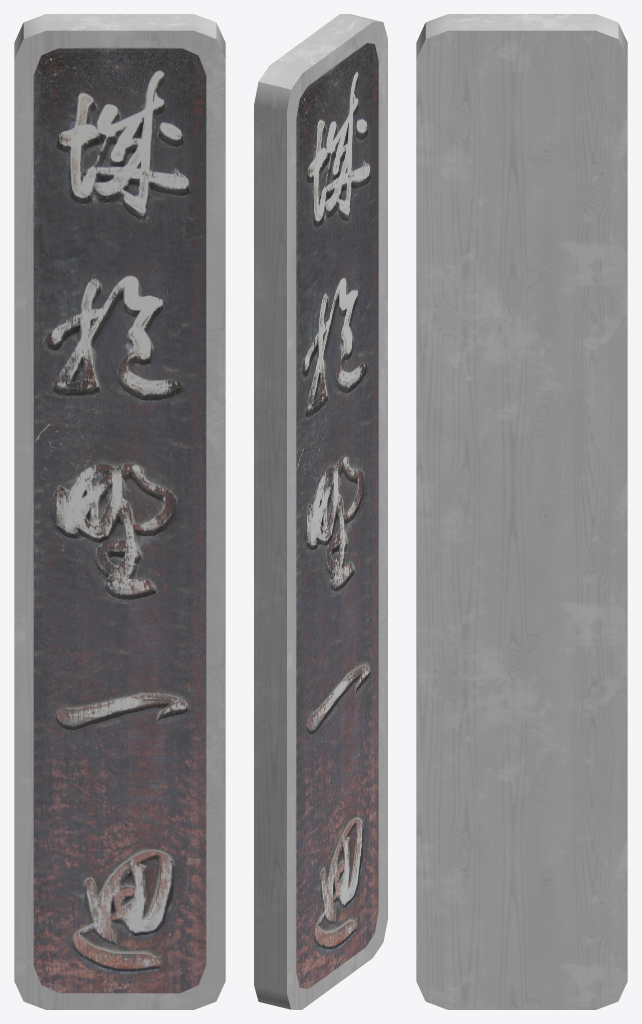
The model's file is SM_R_Yuyotaek8.fbx.
3 renders of one model, left to right at view 1: azimuth 90°, elevation 25°; view 2: azimuth 150°, elevation 25°; view 3: azimuth 270°, elevation 25°, orthographic. The views are drawn at different scales.
Visible parts, largest first — view 1: SM_R_Yuyotaek8; view 2: SM_R_Yuyotaek8; view 3: SM_R_Yuyotaek8.
Part boxes in pixels (x1,y1,x2,y2): SM_R_Yuyotaek8: (14, 14, 225, 1009); SM_R_Yuyotaek8: (254, 14, 387, 1009); SM_R_Yuyotaek8: (416, 14, 627, 1009).
Bounding box in the file's own units: 3.97 × 21.22 × 108.
1 material, 1 textured.
